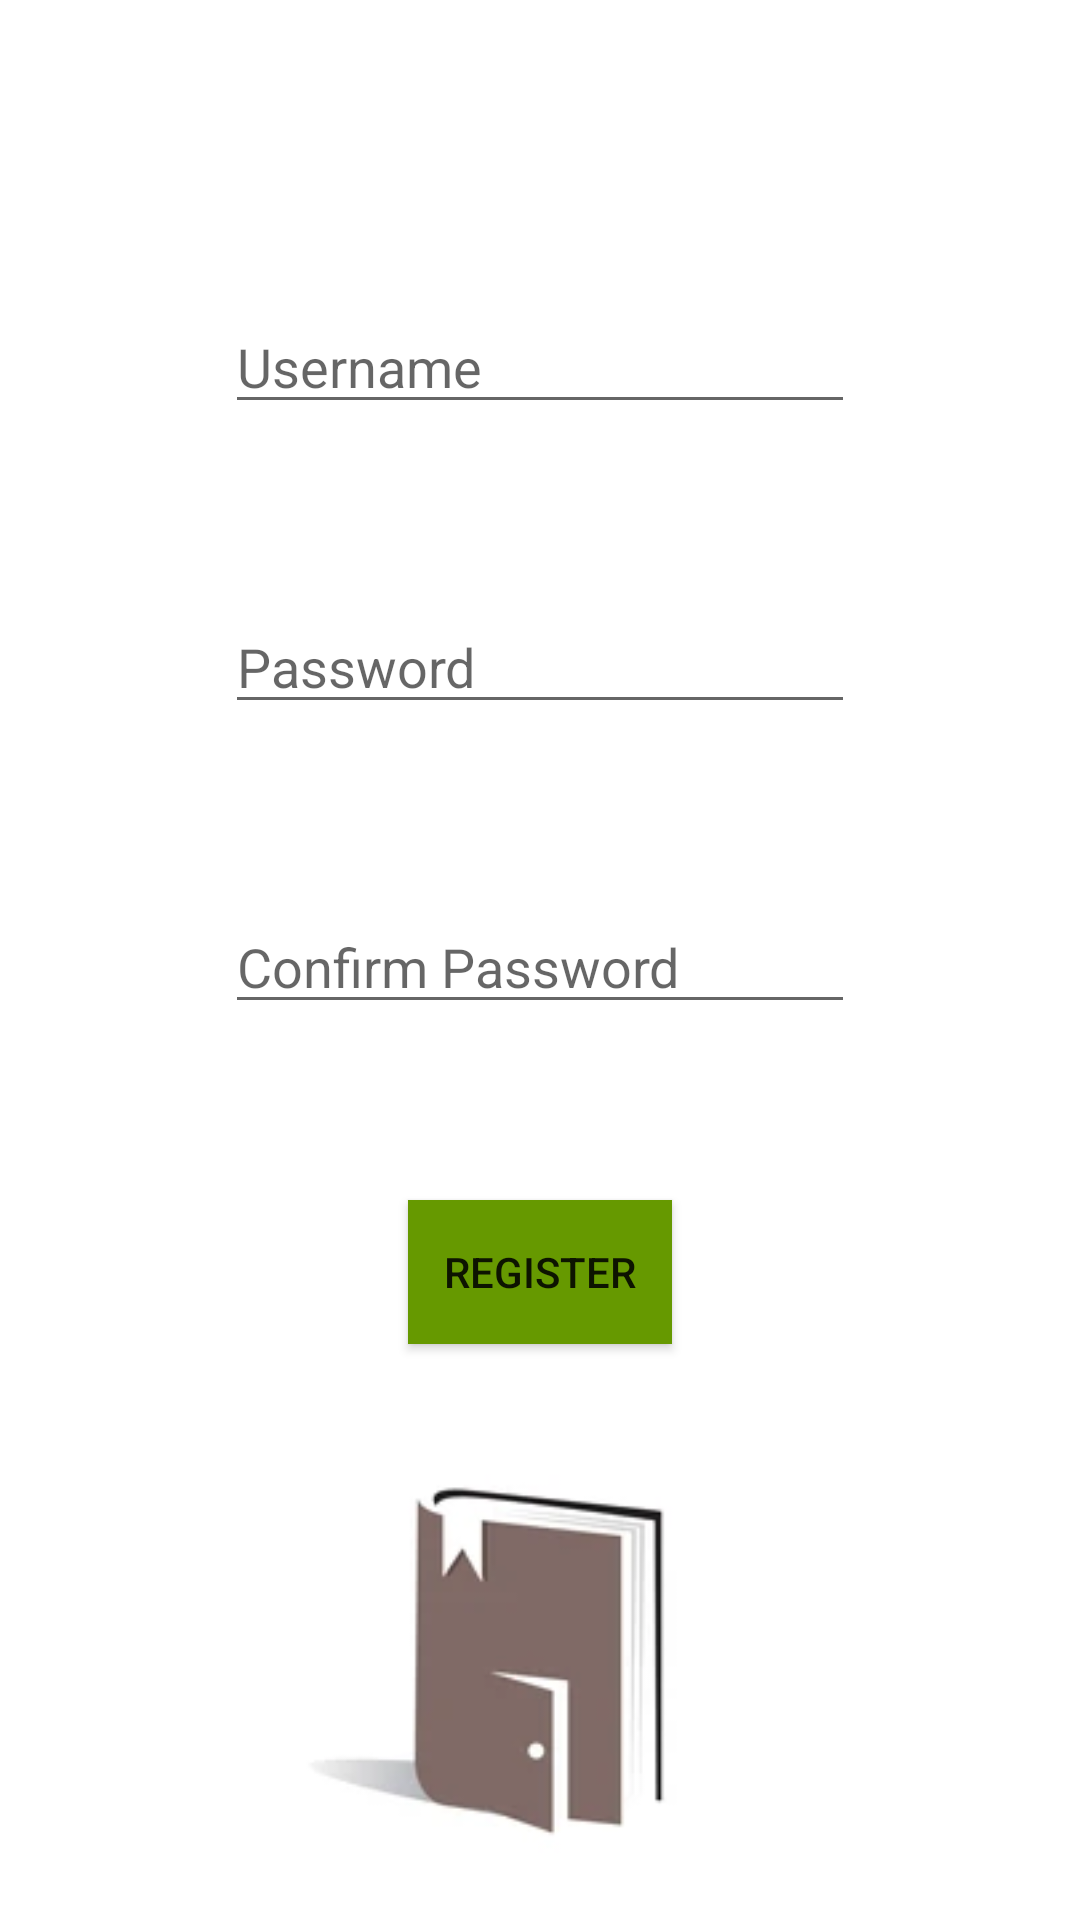

Screen size 1080×1920. Icon name, then its box in pixels as (x1, y1, x2, y2):
door: (331, 1487, 664, 1833)
